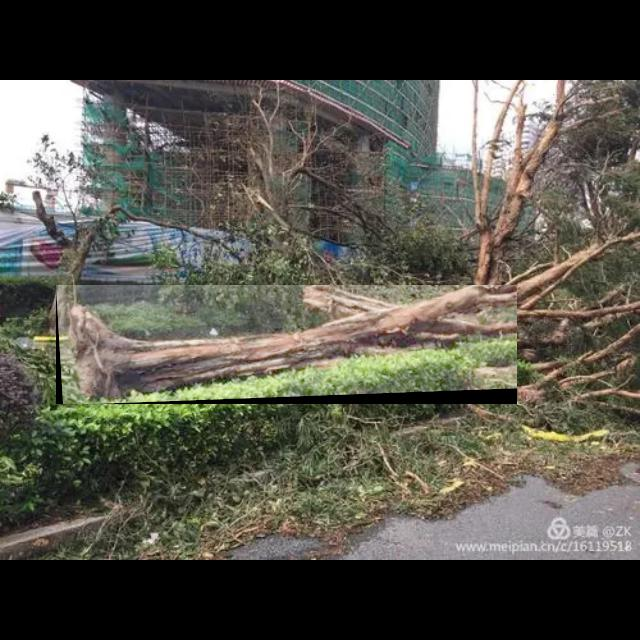Fallen Tree: (56, 285, 518, 405)
